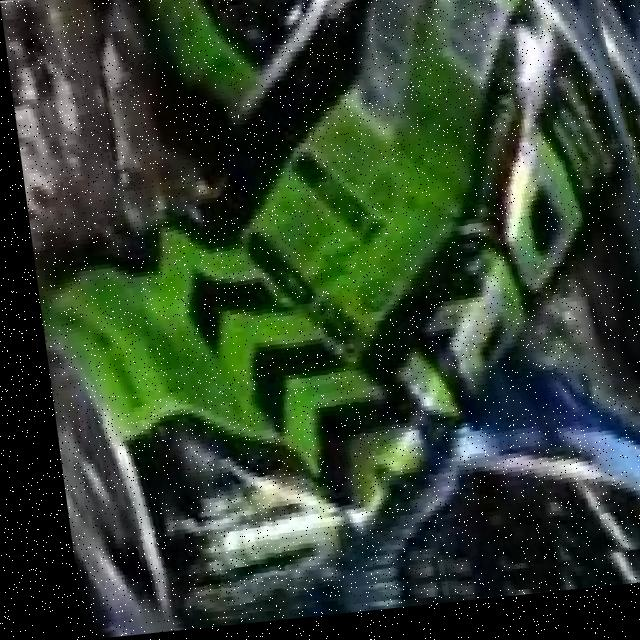litter: (17, 0, 640, 606)
